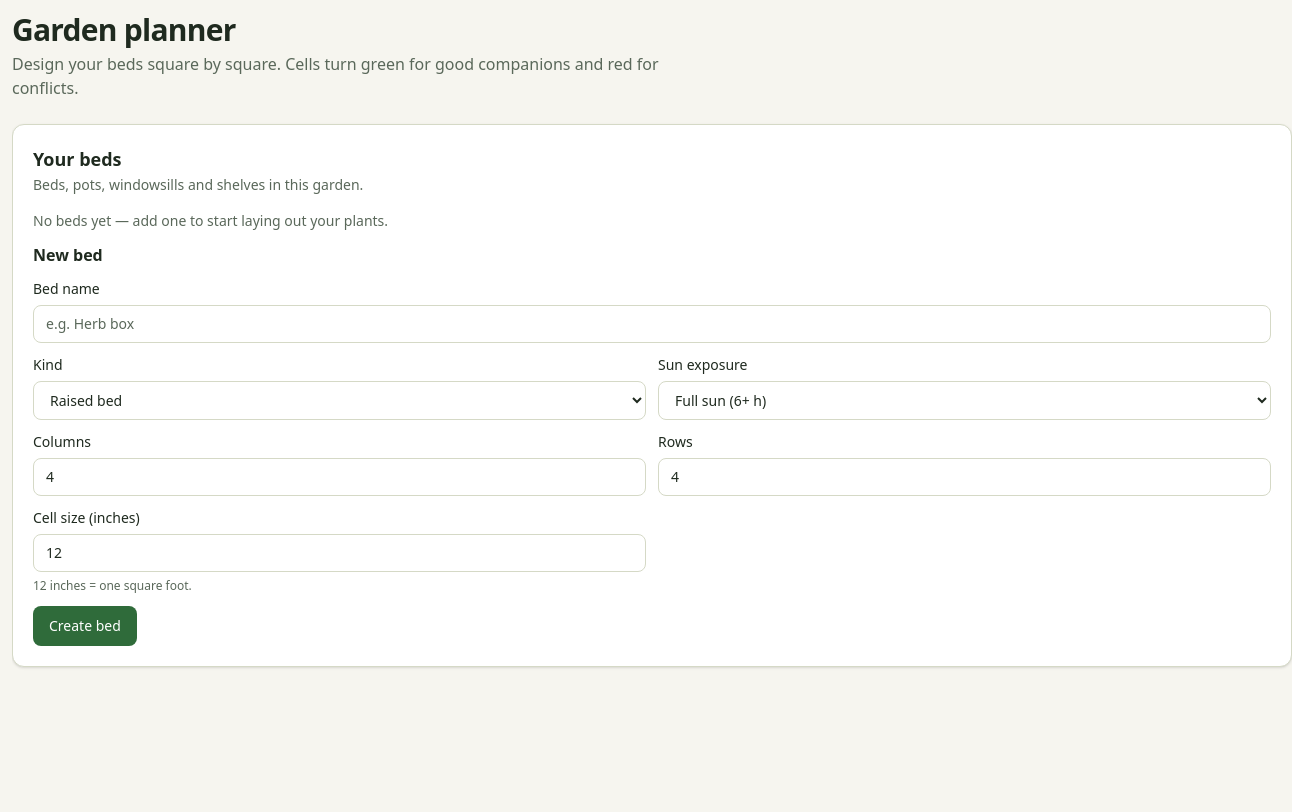
Scenario: PlannerPage › validates the form
Click the button "Create bed" at (85, 626), box [33,606,137,646]
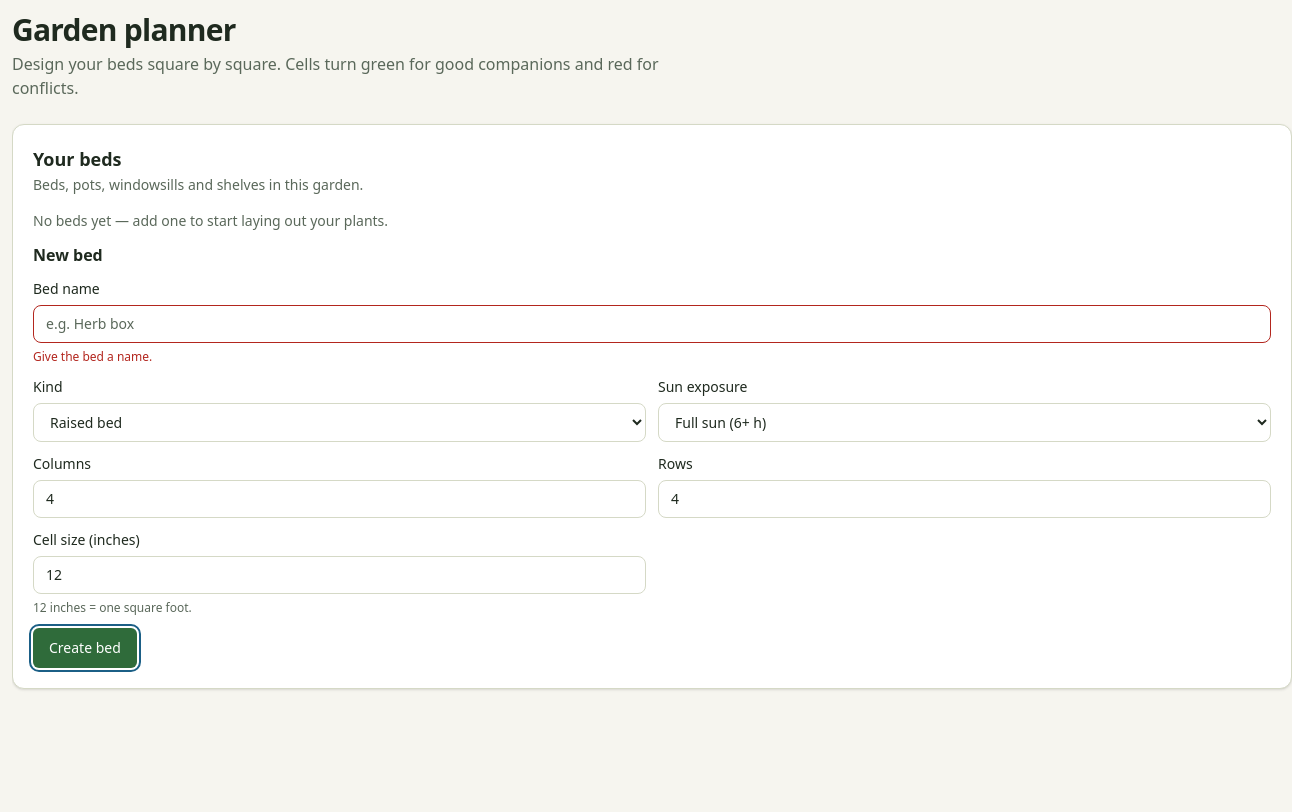
expect the text "Give the bed a name." is shown: met, box [33,348,152,365]
